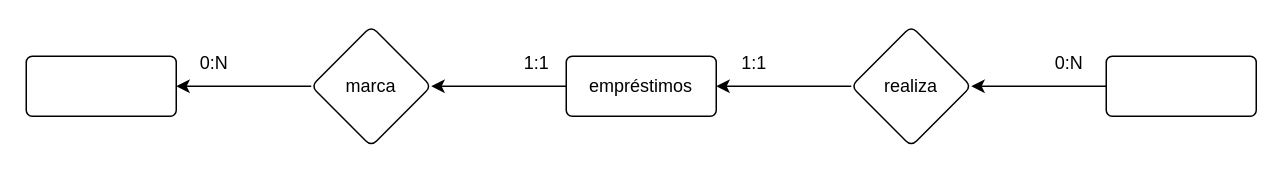
The diagram is 1283 pixels wide and 173 high, and some of its shapes have lost their labels. Each missing label, with the centre of its shape:
"leitores" belongs at (1180,85).
"livros" belongs at (100,85).
